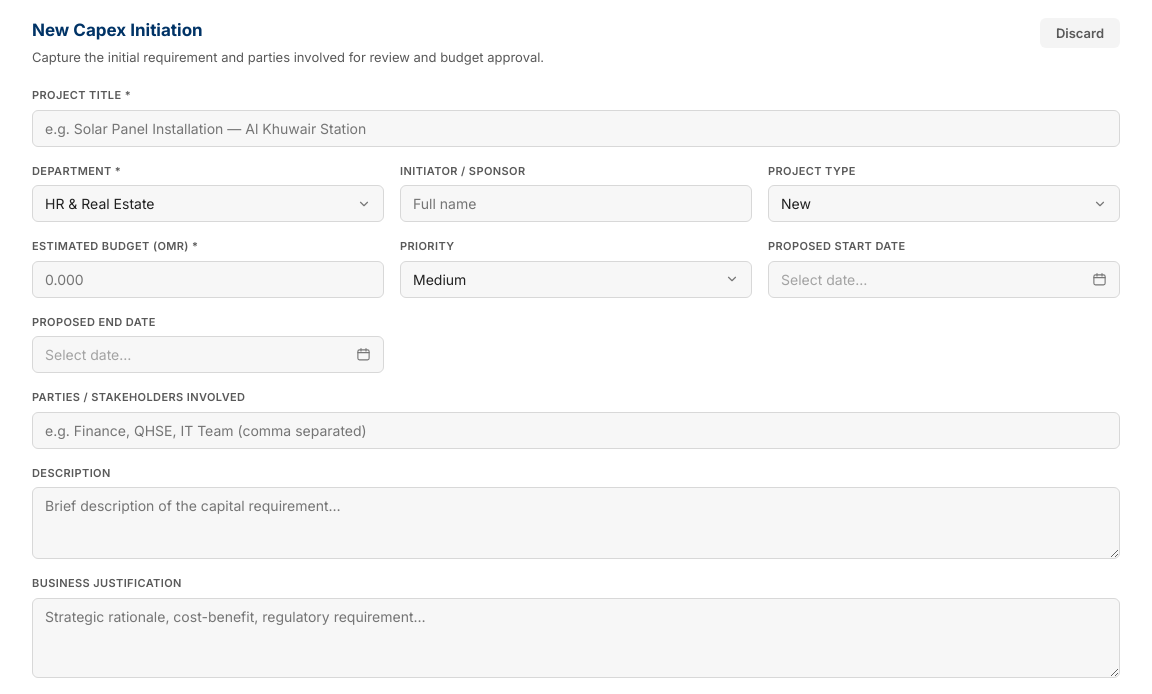
Test: CapexInitiationForm — validation › shows error when estimated budget is zero
Type "My Project" into the field with placeholder "e.g. Solar Panel Installation — Al Khuwair Station". click: [576, 128]
box: [32, 110, 1120, 146]
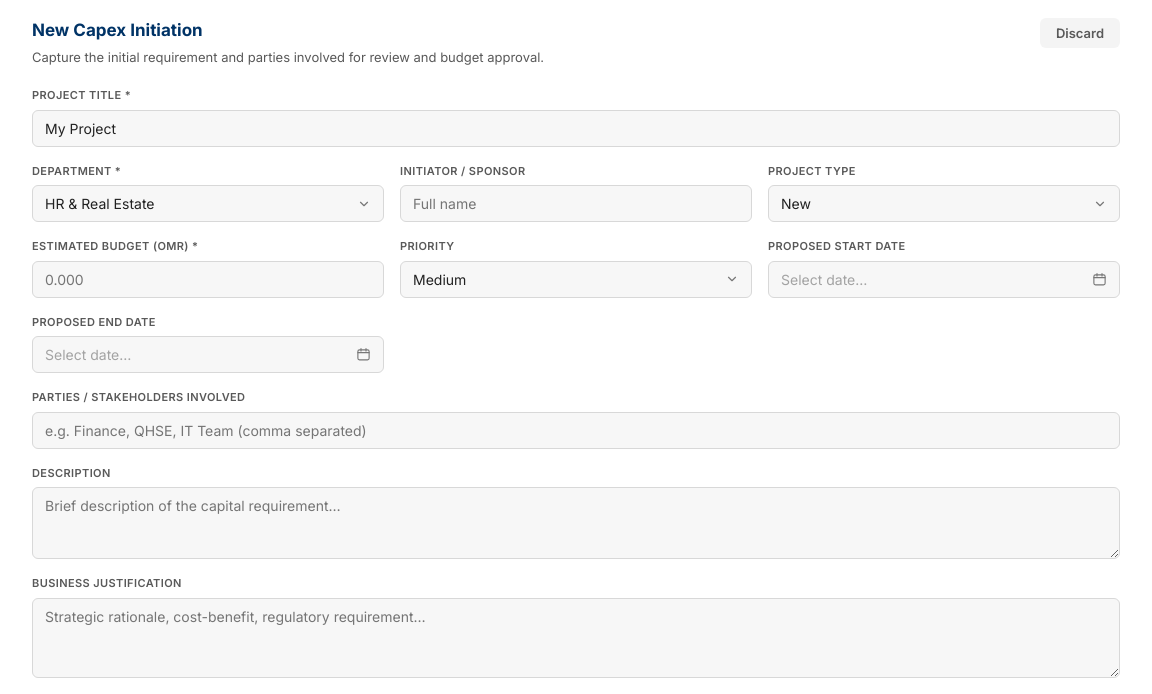
Type "0" into the number field labelled "Estimated Budget (OMR) *". click: [208, 279]
box: [32, 260, 384, 298]
(page scrolled)
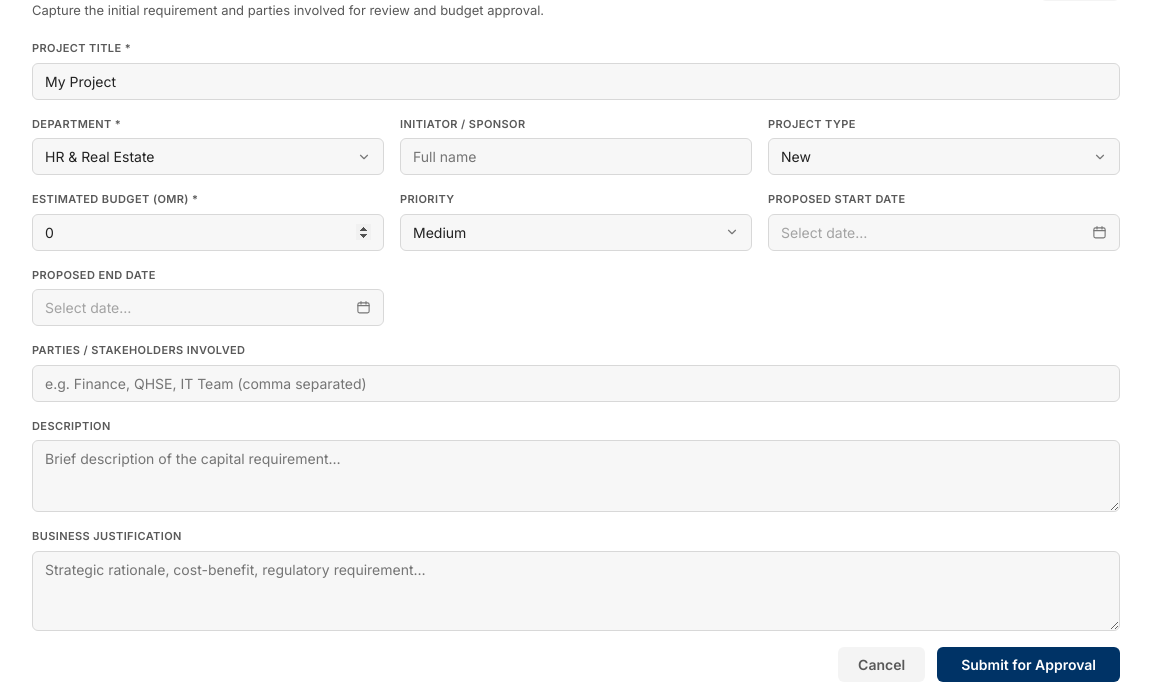
Click the button "Submit for Approval". click: [1029, 664]
box: [937, 646, 1120, 682]
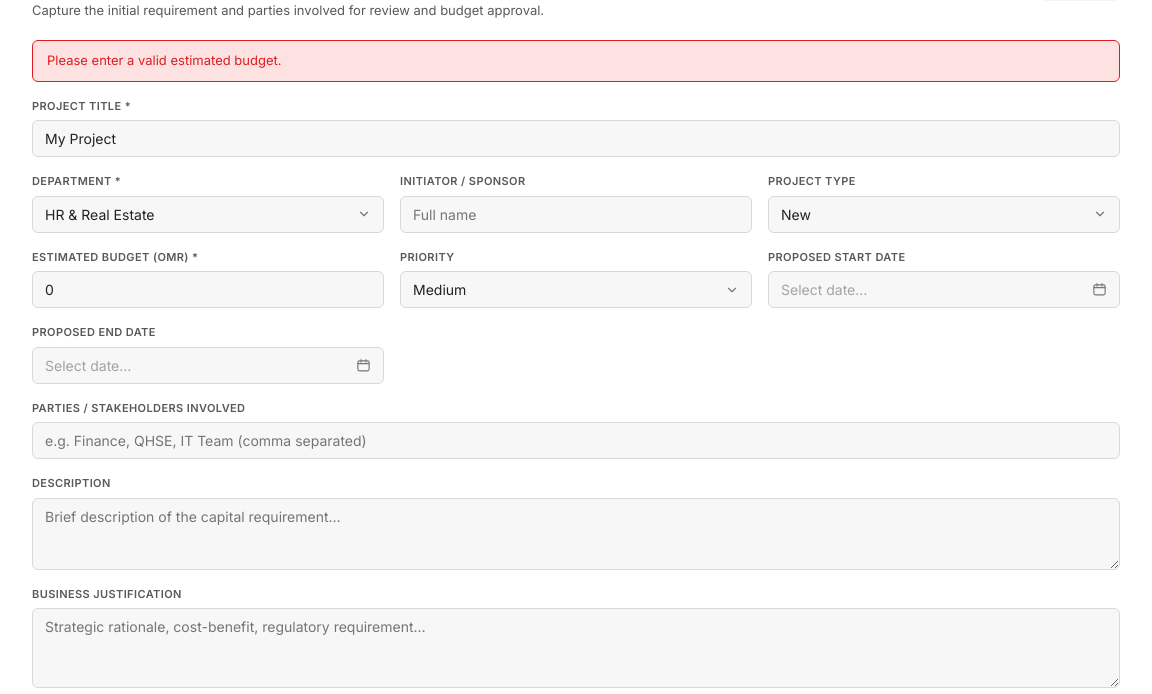
expect the text "Please enter a valid estimated budget." is shown: met, box [32, 40, 1120, 82]
